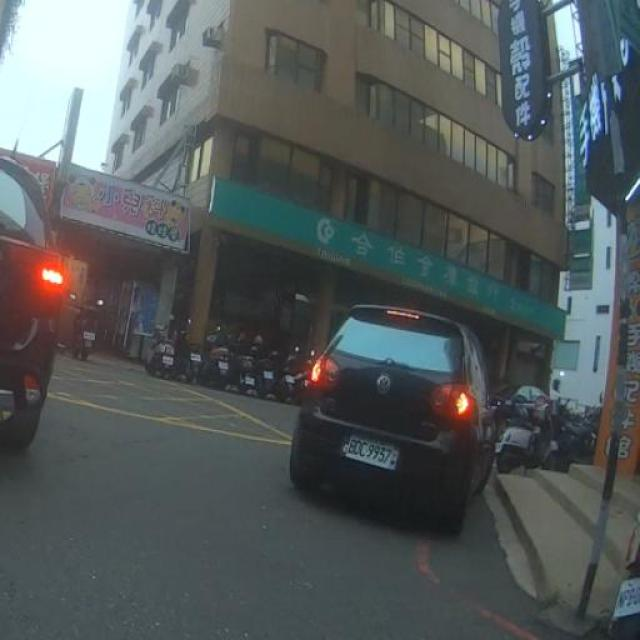illegalparking: (277, 283, 531, 545)
